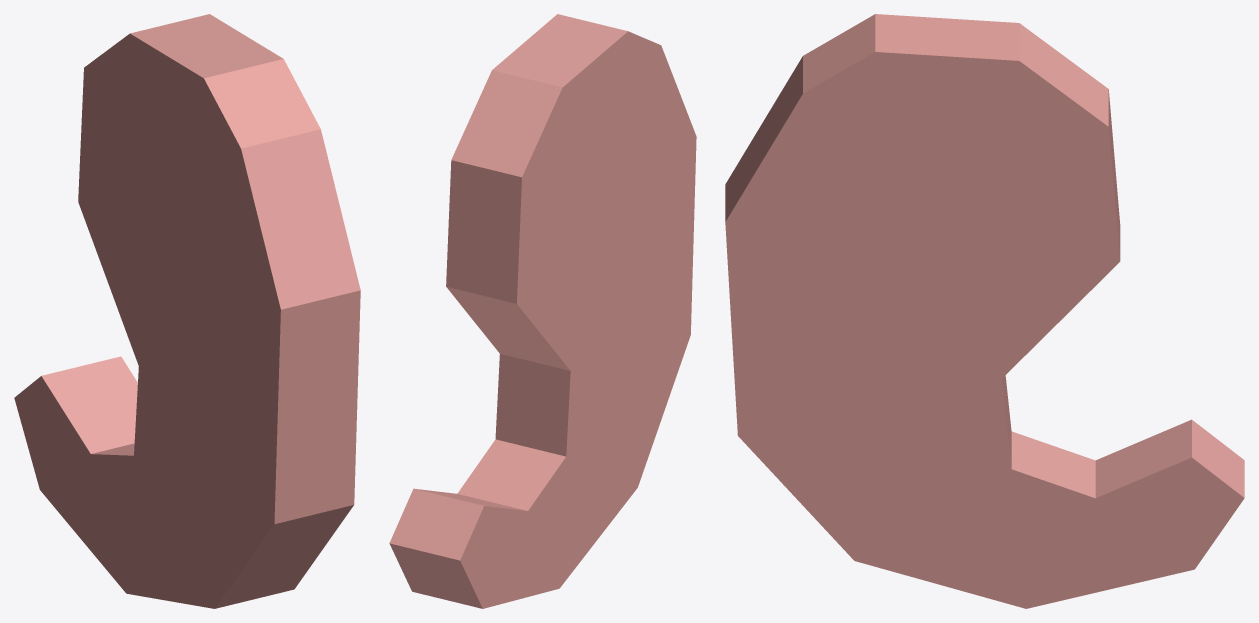
Rendered from RawSteak.fbx.
The picture shows the model from 3 angles, left to right: view 1: azimuth 30°, elevation 25°; view 2: azimuth 150°, elevation 25°; view 3: azimuth 270°, elevation 25°; orthographic projection. The views are drawn at different scales.
Visible parts, largest first — view 1: Plane.002; view 2: Plane.002; view 3: Plane.002.
Part boxes in pixels (box(x1,y1,x2,y2)): Plane.002: box(14, 14, 360, 608); Plane.002: box(389, 14, 696, 608); Plane.002: box(725, 14, 1244, 608).
Size of the model in its own units: 3.61 by 24.69 by 20.86.
